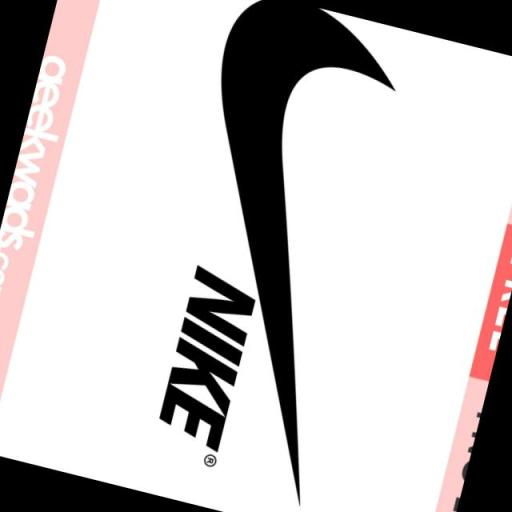Nike: (122, 0, 414, 499), (149, 263, 261, 448)
